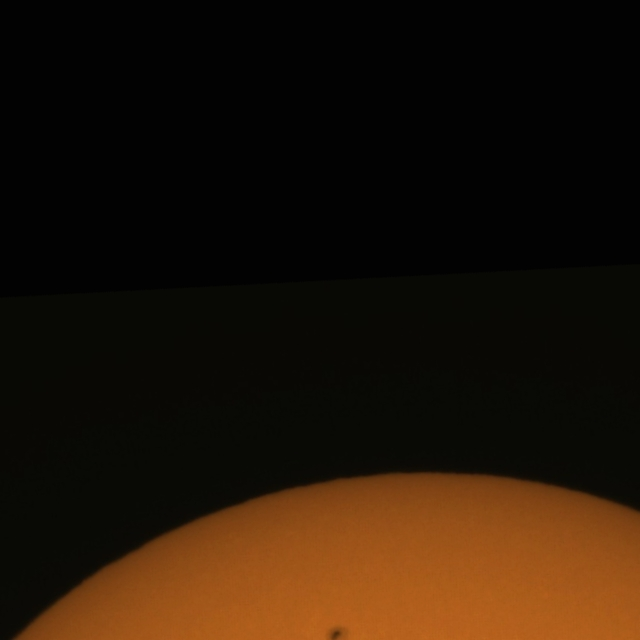sunspot: (325, 624, 347, 640)
